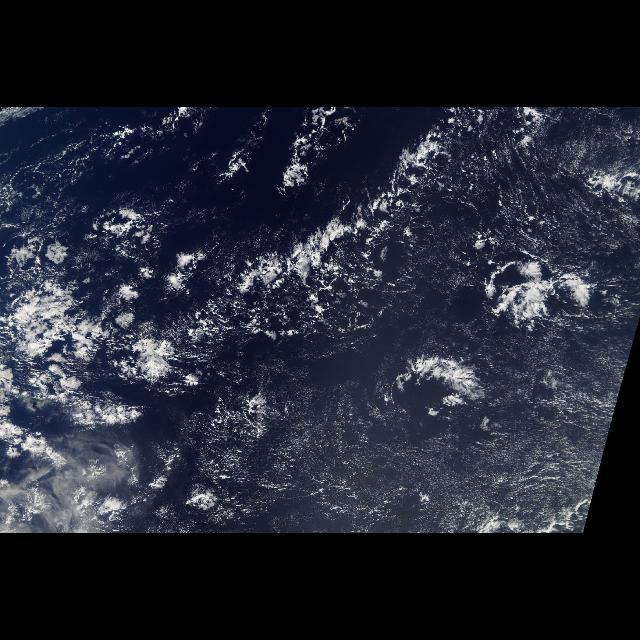Fish: (217, 107, 496, 331)
Flower: (354, 238, 620, 458), (108, 279, 152, 329), (43, 238, 77, 268)
Gravel: (236, 204, 400, 342), (508, 110, 640, 254)
Sugar: (230, 322, 634, 534)
